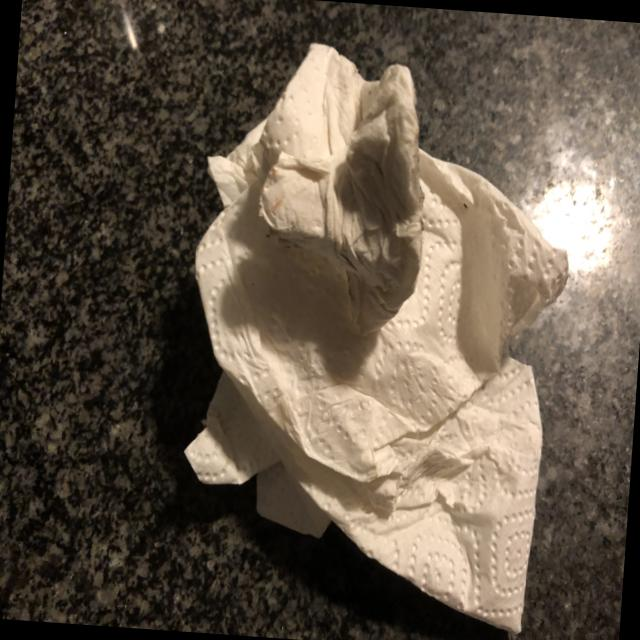organic waste: (156, 34, 585, 636)
